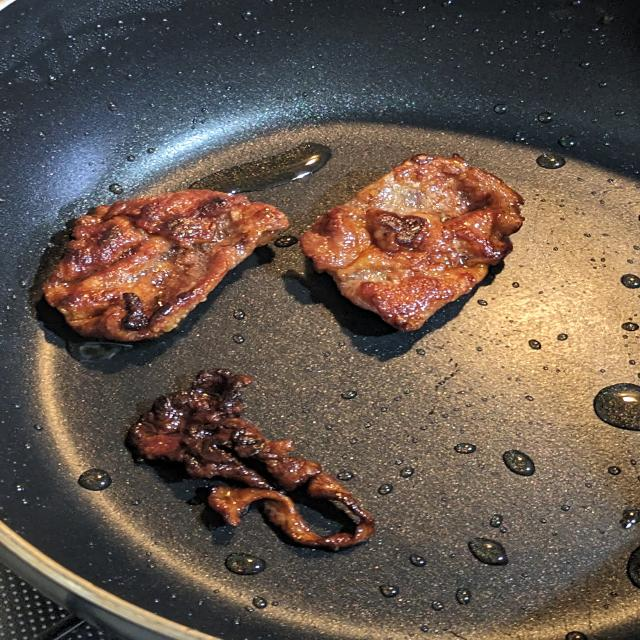overcooked pork: (110, 361, 389, 559), (288, 145, 534, 345), (31, 185, 304, 352)
